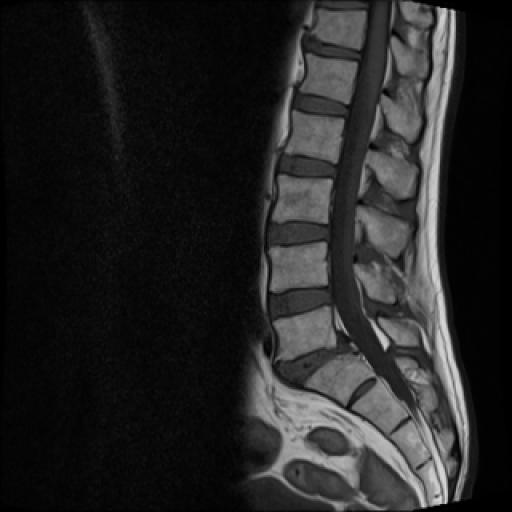L1: (300, 54, 357, 104)
L2: (285, 110, 344, 164)
L3: (274, 176, 332, 224)
L4: (270, 242, 328, 292)
L5: (273, 306, 336, 360)
S1: (304, 353, 372, 406)
